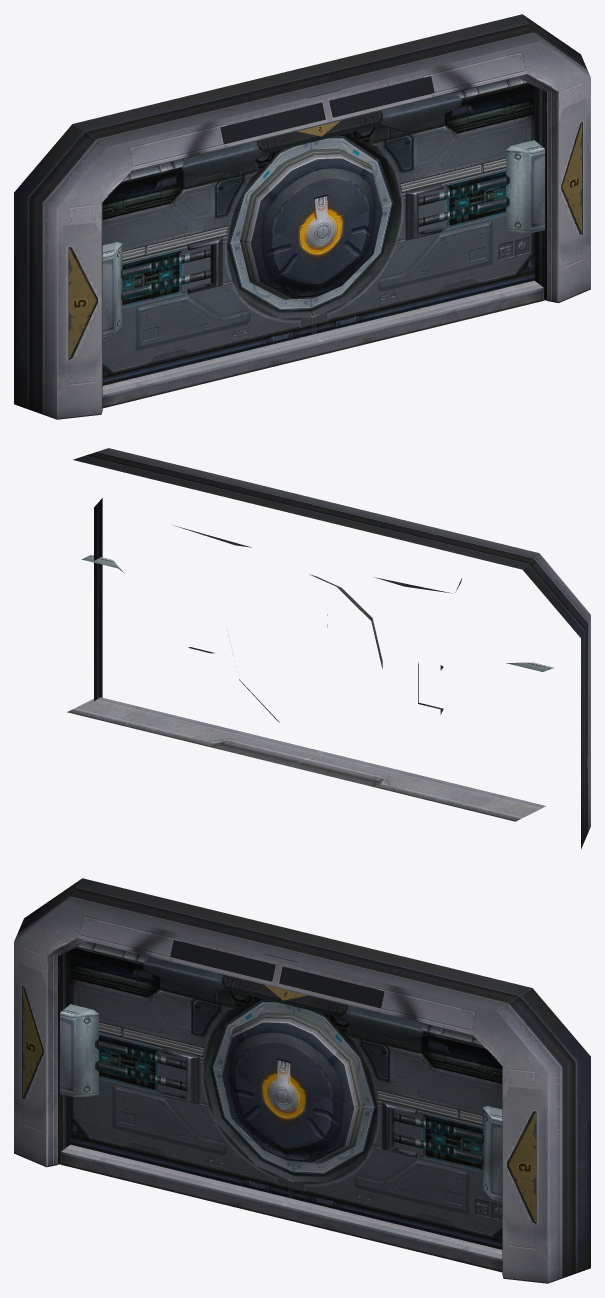
File: Building_Mainexit11.glb
3 renders of one model, top to bottom at view 1: azimuth 30°, elevation 25°; view 2: azimuth 150°, elevation 25°; view 3: azimuth 330°, elevation 25°, orthographic.
Visible parts, largest first — view 1: xiutz_mainexit_11; view 2: xiutz_mainexit_11; view 3: xiutz_mainexit_11.
Part boxes in pixels (x1,y1,x2,y2): xiutz_mainexit_11: [14, 14, 590, 419]; xiutz_mainexit_11: [67, 448, 590, 848]; xiutz_mainexit_11: [14, 878, 590, 1283].
Bounding box in the file's own units: 13.49 × 6.09 × 1.6.
1 material, 1 textured.
